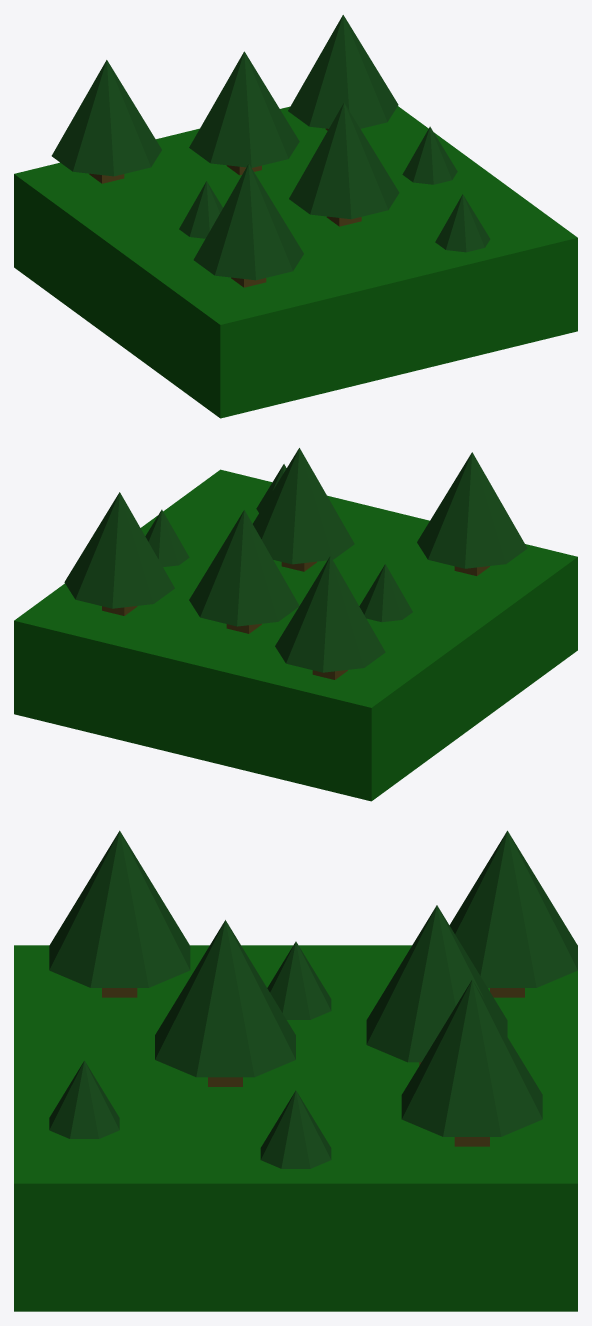
The model's file is growingforest.obj.
3 views of the same model, one above another, from view 1: azimuth 30°, elevation 25°; view 2: azimuth 150°, elevation 25°; view 3: azimuth 270°, elevation 25° (orthographic). The views are drawn at different scales.
Visible parts, largest first — view 1: grass, cone, cylinder; view 2: grass, cone, cylinder; view 3: grass, cone, cylinder.
Boxes of the visible parts, left/top/right/bottom form: grass: left=14, top=106, right=577, bottom=418; cone: left=51, top=15, right=490, bottom=280; cylinder: left=89, top=128, right=361, bottom=287; grass: left=14, top=469, right=577, bottom=801; cone: left=64, top=448, right=527, bottom=672; cylinder: left=102, top=561, right=489, bottom=679; grass: left=14, top=945, right=577, bottom=1311; cone: left=49, top=830, right=577, bottom=1168; cylinder: left=102, top=988, right=524, bottom=1146.
Size of the model in its own units: 0.25 by 0.1406 by 0.25.
1 material, 1 textured.
